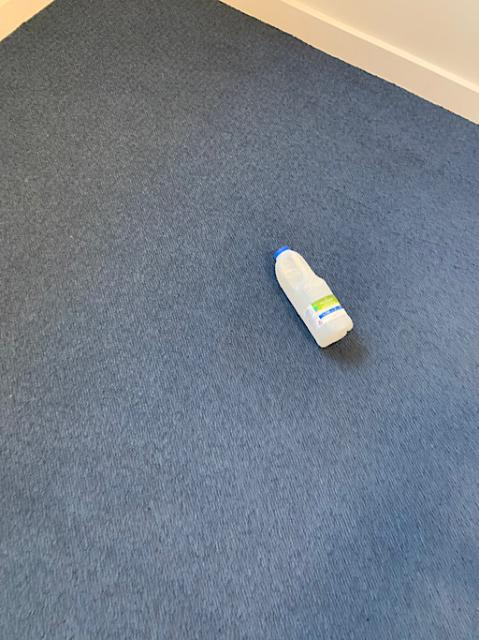plastic: (275, 246, 351, 346)
